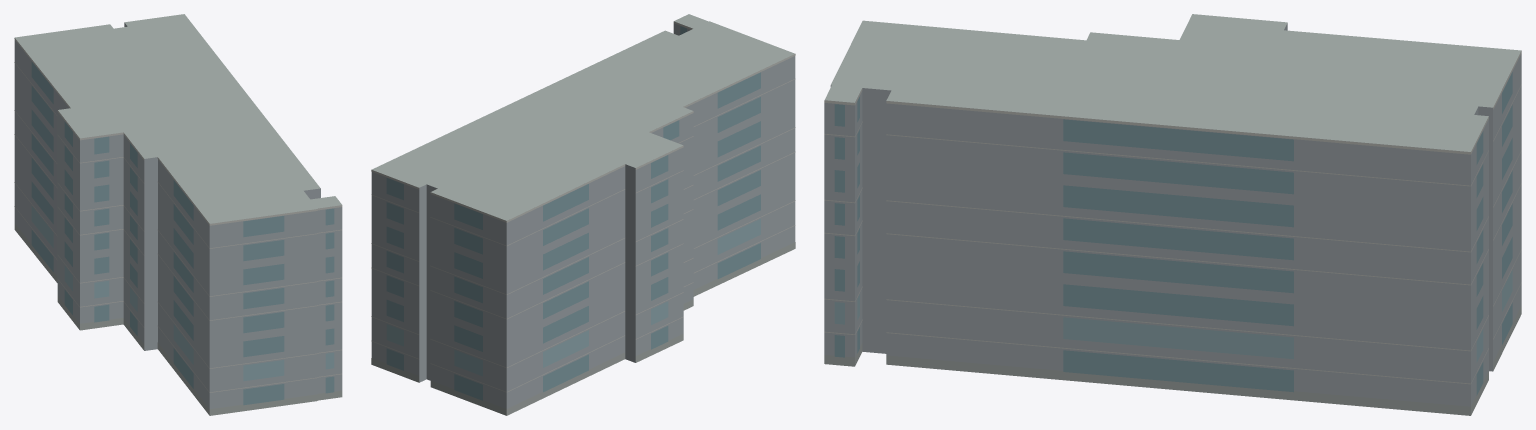
The model's file is survey-upis-33014124.glb.
3 renders of one model, left to right at view 1: azimuth 30°, elevation 25°; view 2: azimuth 150°, elevation 25°; view 3: azimuth 270°, elevation 25°, orthographic. The views are drawn at different scales.
Visible parts, largest first — view 1: survey-upis-33014124.tmp; view 2: survey-upis-33014124.tmp; view 3: survey-upis-33014124.tmp.
Part boxes in pixels (x1,y1,x2,y2): survey-upis-33014124.tmp: (14,14,342,415); survey-upis-33014124.tmp: (371,14,795,415); survey-upis-33014124.tmp: (824,14,1521,415).
Bounding box in the file's own units: 27.41 × 24.4 × 58.44.
